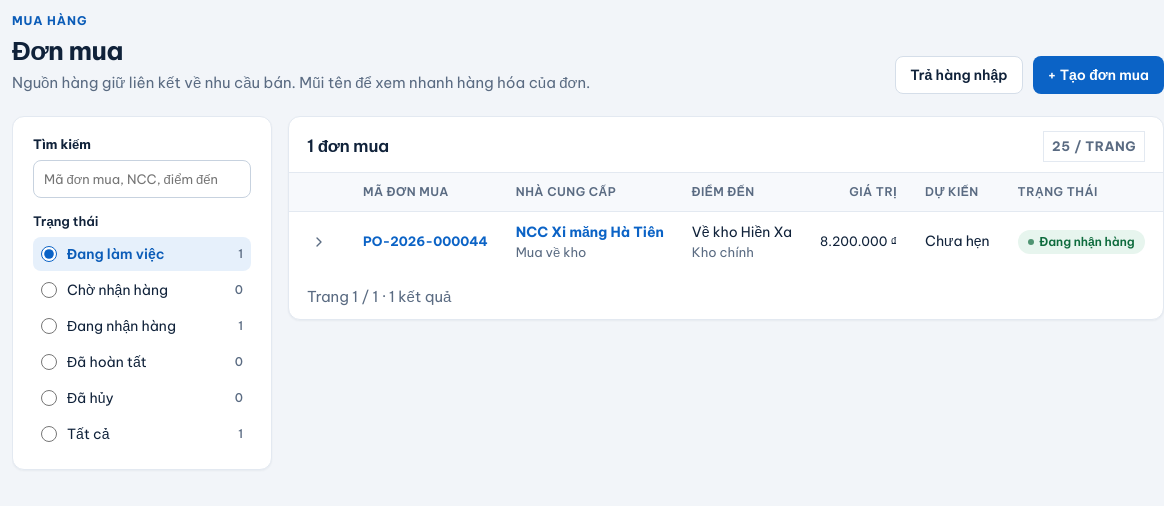
filters on the left and shows the lines of an order under its row
expect the label "Đang nhận hàng 1" is shown: met, box [41,317,243,335]
Click the button named "Xem nhanh PO-2026-000044". click: (319, 242)
box: [303,226,335,258]
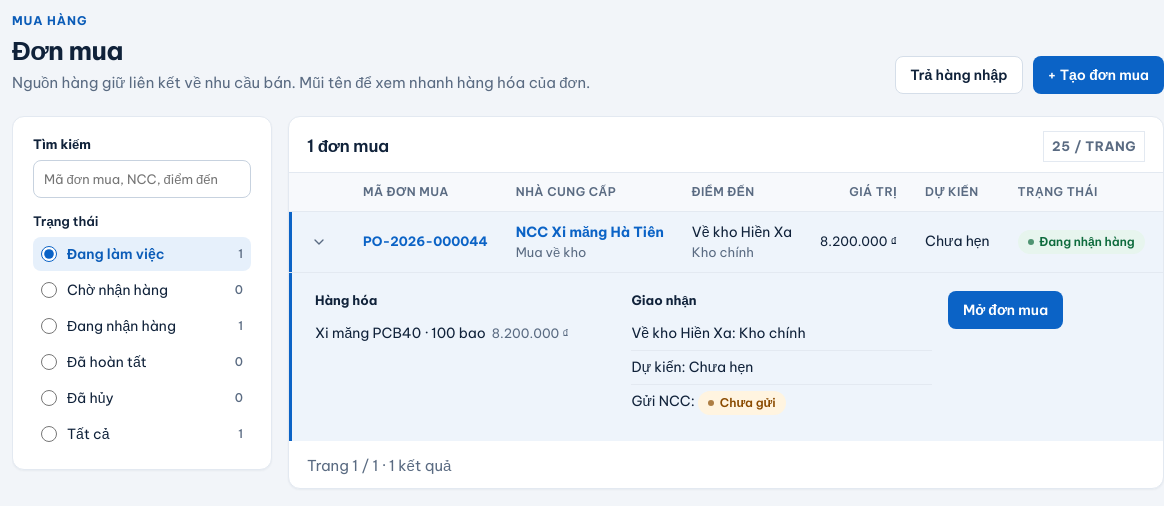
expect the list item "Xi măng PCB40 · 100 bao8.200.000 ₫" is shown: met, box [315,324,569,342]
